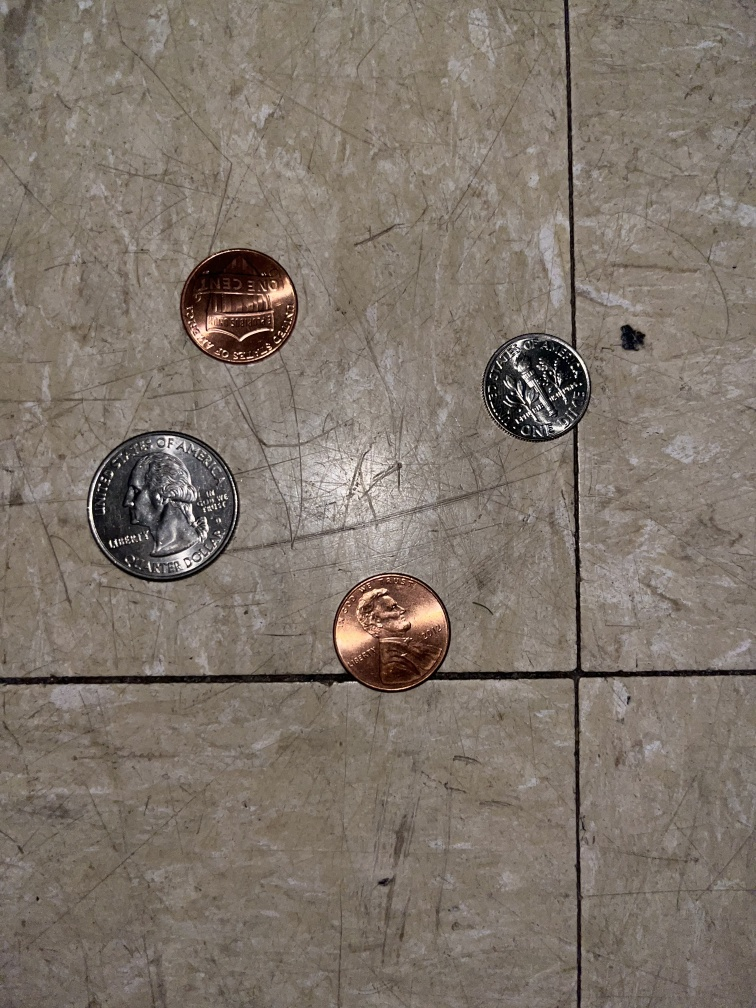dime: (474, 324, 600, 449)
penny: (327, 570, 459, 701), (173, 245, 304, 369)
quarter: (75, 424, 250, 595)
